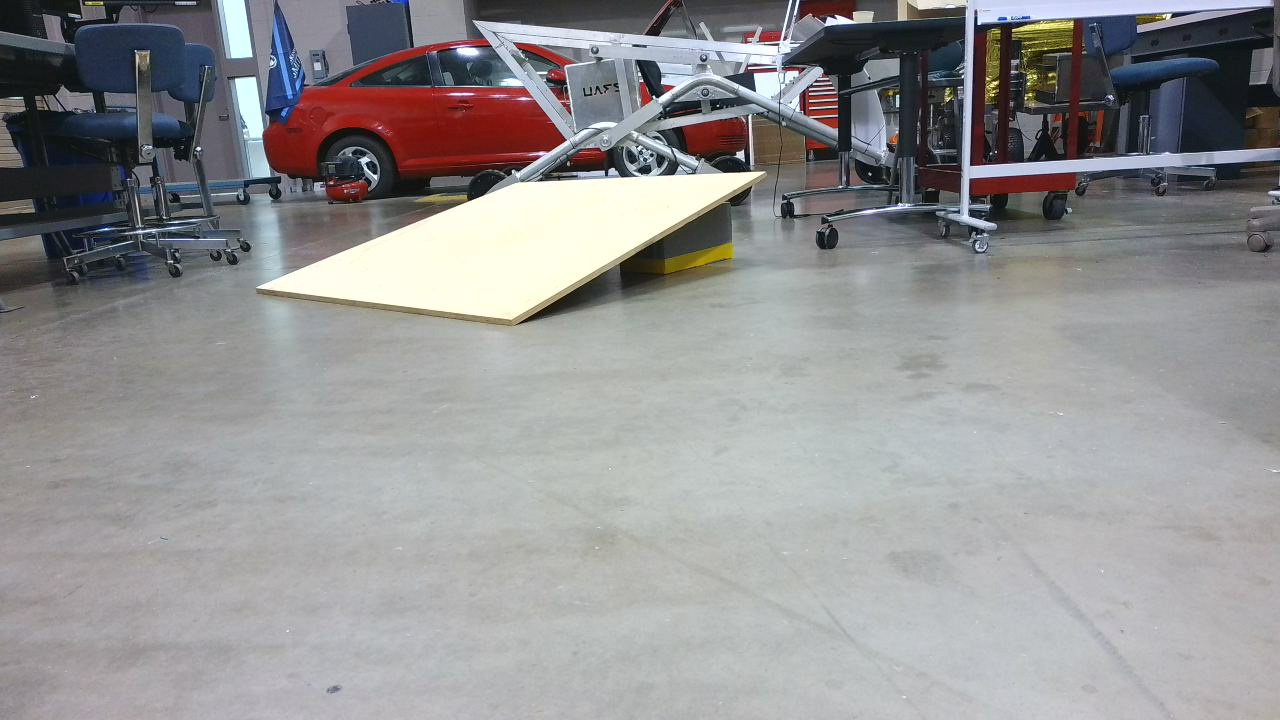concrete_block: (248, 175, 785, 327)
